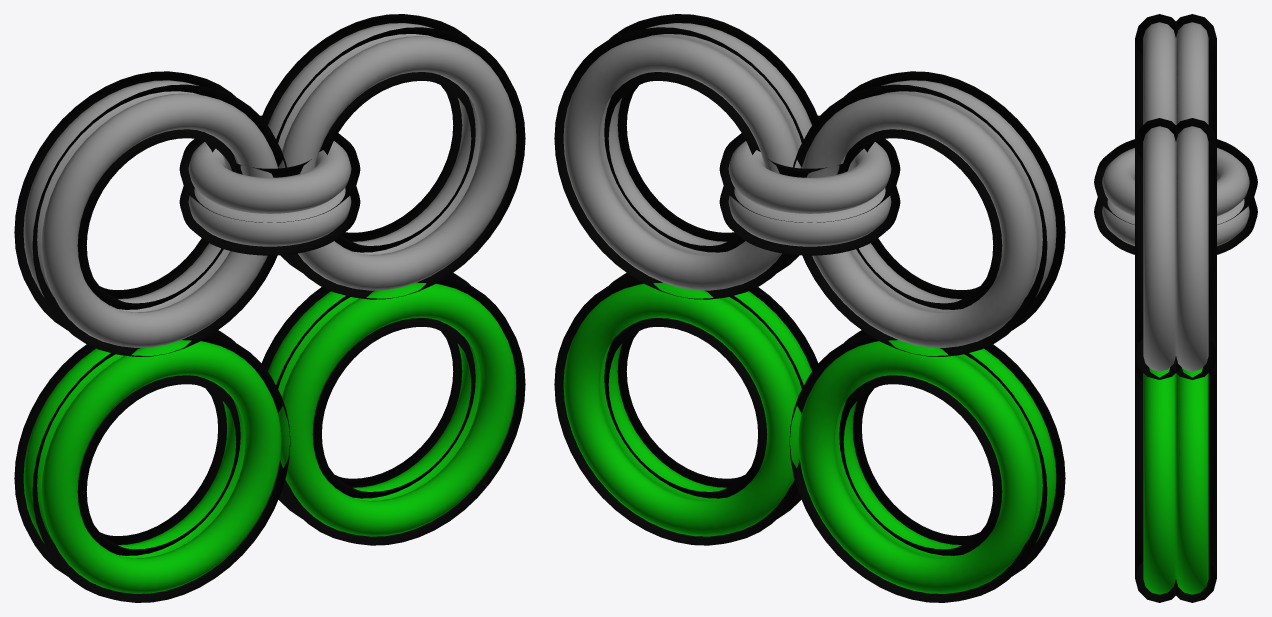
File: japanese_8_in_2_step_04.glb
The picture shows the model from 3 angles, left to right: view 1: azimuth 30°, elevation 25°; view 2: azimuth 150°, elevation 25°; view 3: azimuth 270°, elevation 25°; orthographic projection. The views are drawn at different scales.
Parts seen in each view (by area): view 1: Torus AR 6.003, Torus AR 6.001, Torus AR 6.024, Torus AR 6.032, Torus AR 6.019, Torus AR 6.004, Torus AR 6.027, Torus AR 6.002, Torus AR 3.042, Torus AR 3.041; view 2: Torus AR 6.004, Torus AR 6.002, Torus AR 6.019, Torus AR 6.027, Torus AR 6.024, Torus AR 6.003, Torus AR 6.032, Torus AR 6.001, Torus AR 3.042, Torus AR 3.041; view 3: Torus AR 6.027, Torus AR 6.032, Torus AR 6.001, Torus AR 6.002, Torus AR 3.042, Torus AR 6.019, Torus AR 6.024, Torus AR 3.041.
Boxes of the visible parts, box(x1,y1,x2,y2) form: Torus AR 6.003: box(32, 334, 290, 602); Torus AR 6.001: box(276, 277, 525, 545); Torus AR 6.024: box(32, 84, 286, 356); Torus AR 6.032: box(276, 27, 525, 299); Torus AR 6.019: box(14, 71, 238, 330); Torus AR 6.004: box(14, 330, 245, 576); Torus AR 6.027: box(261, 14, 480, 272); Torus AR 6.002: box(261, 273, 480, 518); Torus AR 3.042: box(179, 115, 360, 222); Torus AR 3.041: box(179, 186, 360, 255); Torus AR 6.004: box(789, 334, 1047, 602); Torus AR 6.002: box(554, 277, 803, 545); Torus AR 6.019: box(793, 84, 1047, 356); Torus AR 6.027: box(554, 27, 803, 299); Torus AR 6.024: box(841, 71, 1065, 330); Torus AR 6.003: box(834, 330, 1065, 576); Torus AR 6.032: box(599, 14, 818, 272); Torus AR 6.001: box(599, 273, 818, 518); Torus AR 3.042: box(719, 115, 900, 222); Torus AR 3.041: box(719, 186, 900, 255); Torus AR 6.027: box(1171, 118, 1216, 379); Torus AR 6.032: box(1135, 118, 1180, 379); Torus AR 6.001: box(1135, 361, 1180, 602); Torus AR 6.002: box(1171, 361, 1216, 602); Torus AR 3.042: box(1094, 139, 1257, 224); Torus AR 6.019: box(1171, 14, 1216, 141); Torus AR 6.024: box(1135, 14, 1180, 141); Torus AR 3.041: box(1094, 197, 1257, 254).
Bounding box in the file's own units: 6.2 × 6.2 × 2.
